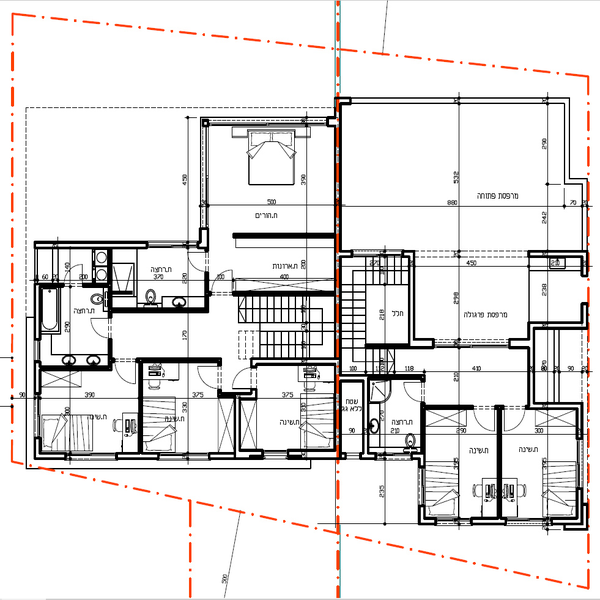door: (192, 363, 224, 391), (112, 358, 142, 385), (475, 405, 500, 436), (209, 268, 238, 294), (234, 365, 261, 392), (503, 407, 531, 433), (90, 314, 117, 339), (62, 262, 87, 289), (404, 375, 425, 403), (185, 249, 210, 271)
room: (33, 241, 335, 460), (199, 115, 345, 240), (492, 403, 587, 532), (417, 401, 506, 528)
wall: (496, 404, 505, 512), (137, 356, 224, 367), (231, 232, 337, 241), (237, 292, 334, 299), (137, 366, 145, 450), (41, 364, 110, 373), (107, 308, 210, 314), (417, 405, 427, 454), (427, 403, 476, 413), (367, 373, 421, 382), (367, 344, 413, 349)
